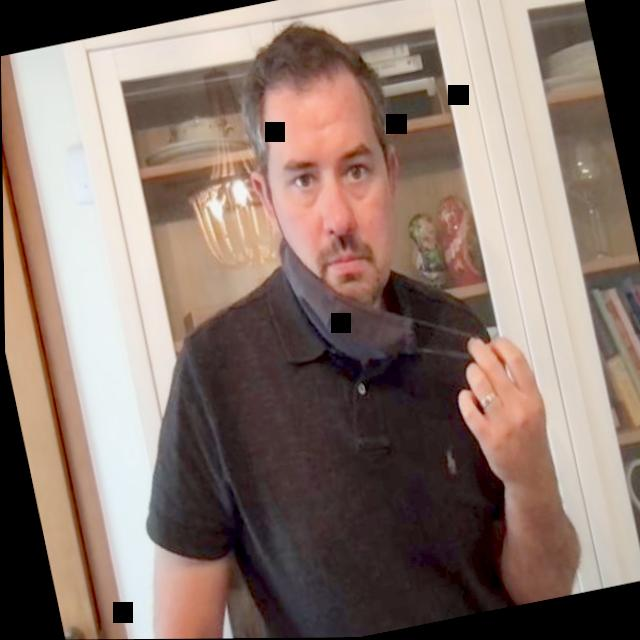NO-Mask: (226, 8, 431, 349)
